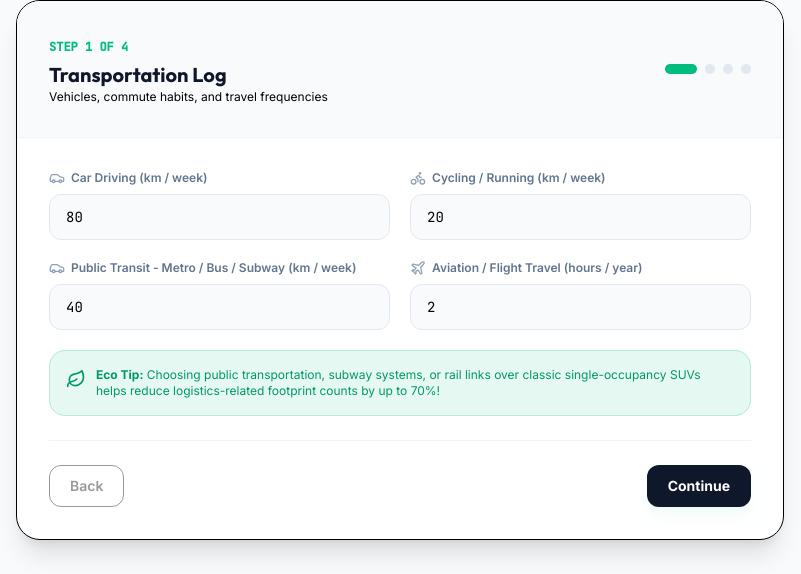
it: CalculatorForm Component › navigates through multi-step screens securely
This screenshot has width=801, height=574.
Expected: the field labelled "Electricity Consumption" is not shown
Move to step 2
Click the button "Continue": (699, 486) [647,465,751,507]
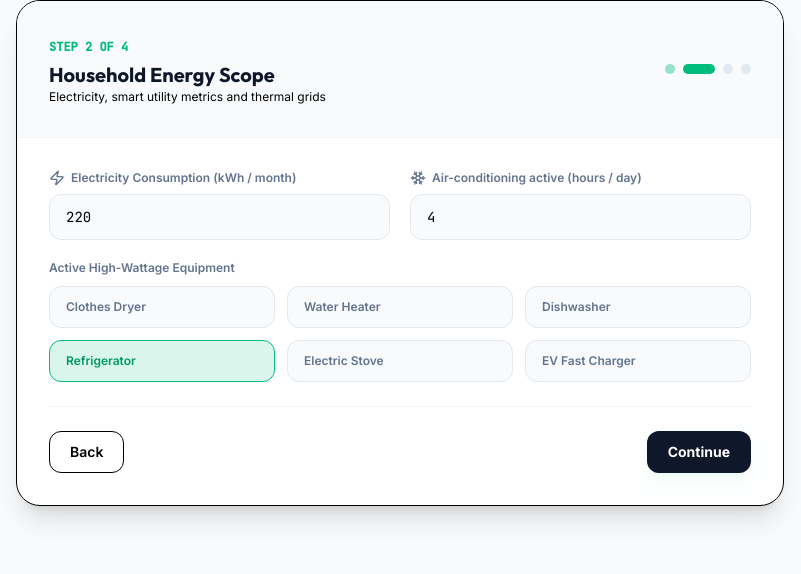
Expected: the heading "Household Energy Scope" is shown, [49,62,275,87]
Expected: the number field labelled "Electricity Consumption (kWh / month)" is shown, [49,194,390,240]
Expected: the number field labelled "Air-conditioning active (hours / day)" is shown, [410,194,751,240]
Back button works
Click the button "Back": (87, 452) [49,431,124,473]
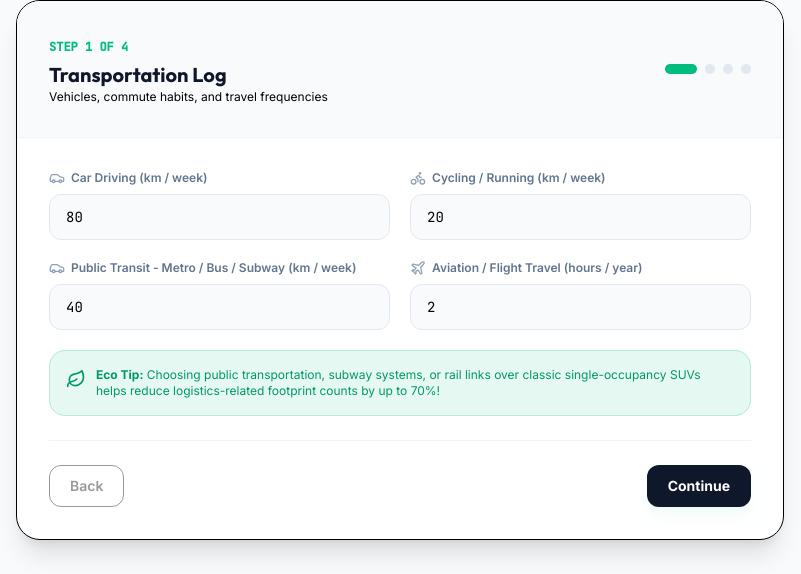
Expected: the heading "Transportation Log" is shown, [49,62,227,87]
